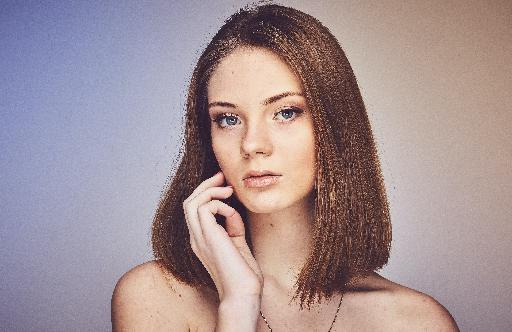left_eye: (274, 108, 305, 123)
left_lip_corner: (273, 173, 287, 180)
right_eye: (215, 114, 245, 129)
right_lip_corner: (241, 175, 250, 182)
